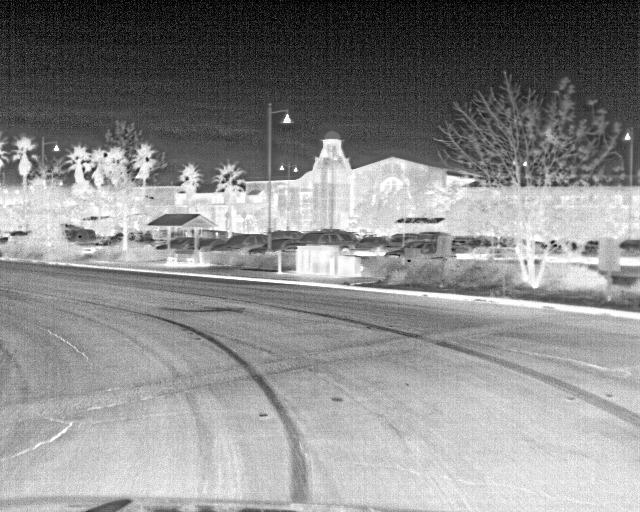car: (281, 230, 357, 256), (205, 234, 266, 254), (383, 239, 438, 259), (63, 228, 95, 253), (353, 238, 389, 257), (268, 236, 294, 255), (196, 236, 225, 252), (169, 236, 193, 250)
